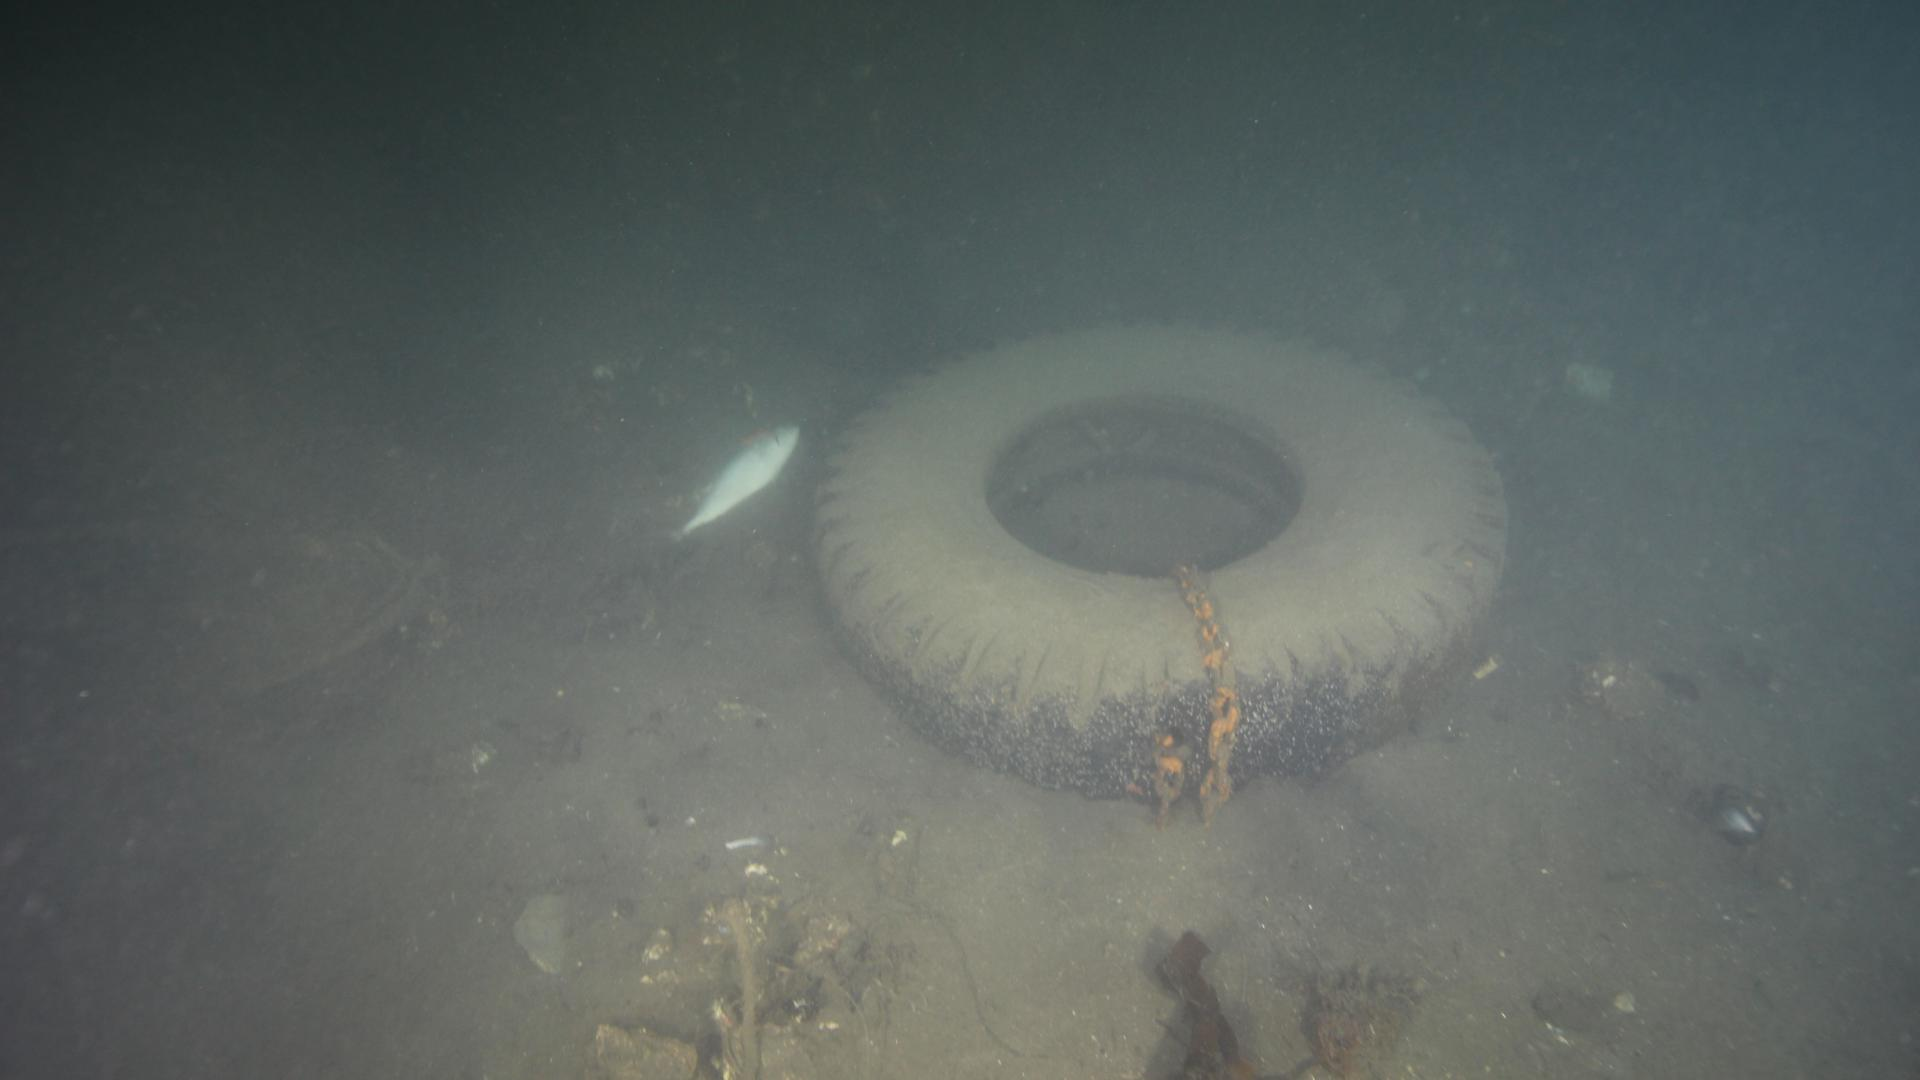tire: (806, 319, 1518, 804)
